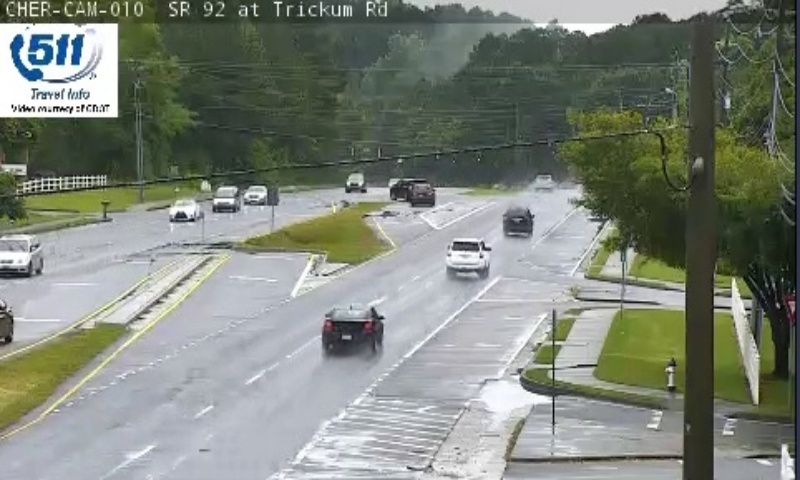car: (320, 304, 383, 348), (444, 238, 489, 274), (502, 207, 532, 234)
